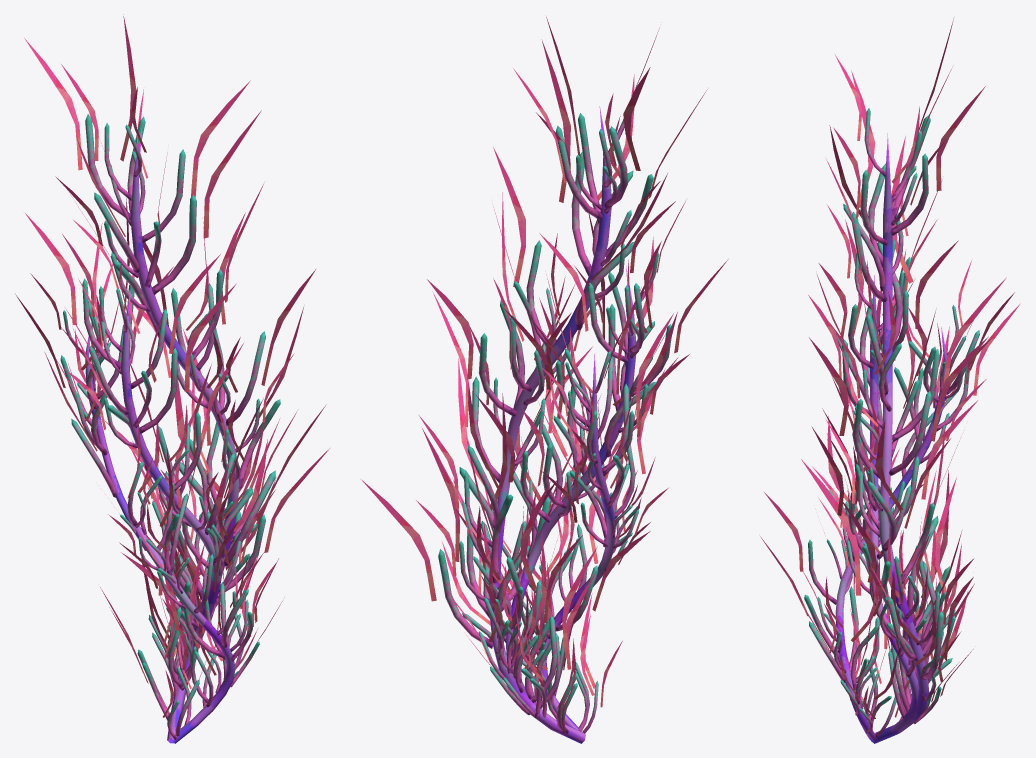
Rendered from P_BoaKelpV2.fbx.
3 renders of one model, left to right at view 1: azimuth 30°, elevation 25°; view 2: azimuth 150°, elevation 25°; view 3: azimuth 270°, elevation 25°, orthographic. The views are drawn at different scales.
Parts seen in each view (by area): view 1: Boa Stem Gen3.001; view 2: Boa Stem Gen3.001; view 3: Boa Stem Gen3.001.
Boxes of the visible parts, x1,y1,x2,y2 form: Boa Stem Gen3.001: [15, 14, 329, 743]; Boa Stem Gen3.001: [361, 17, 728, 743]; Boa Stem Gen3.001: [760, 18, 1020, 743].
Bounding box in the file's own units: 50.83 × 119 × 42.06.
